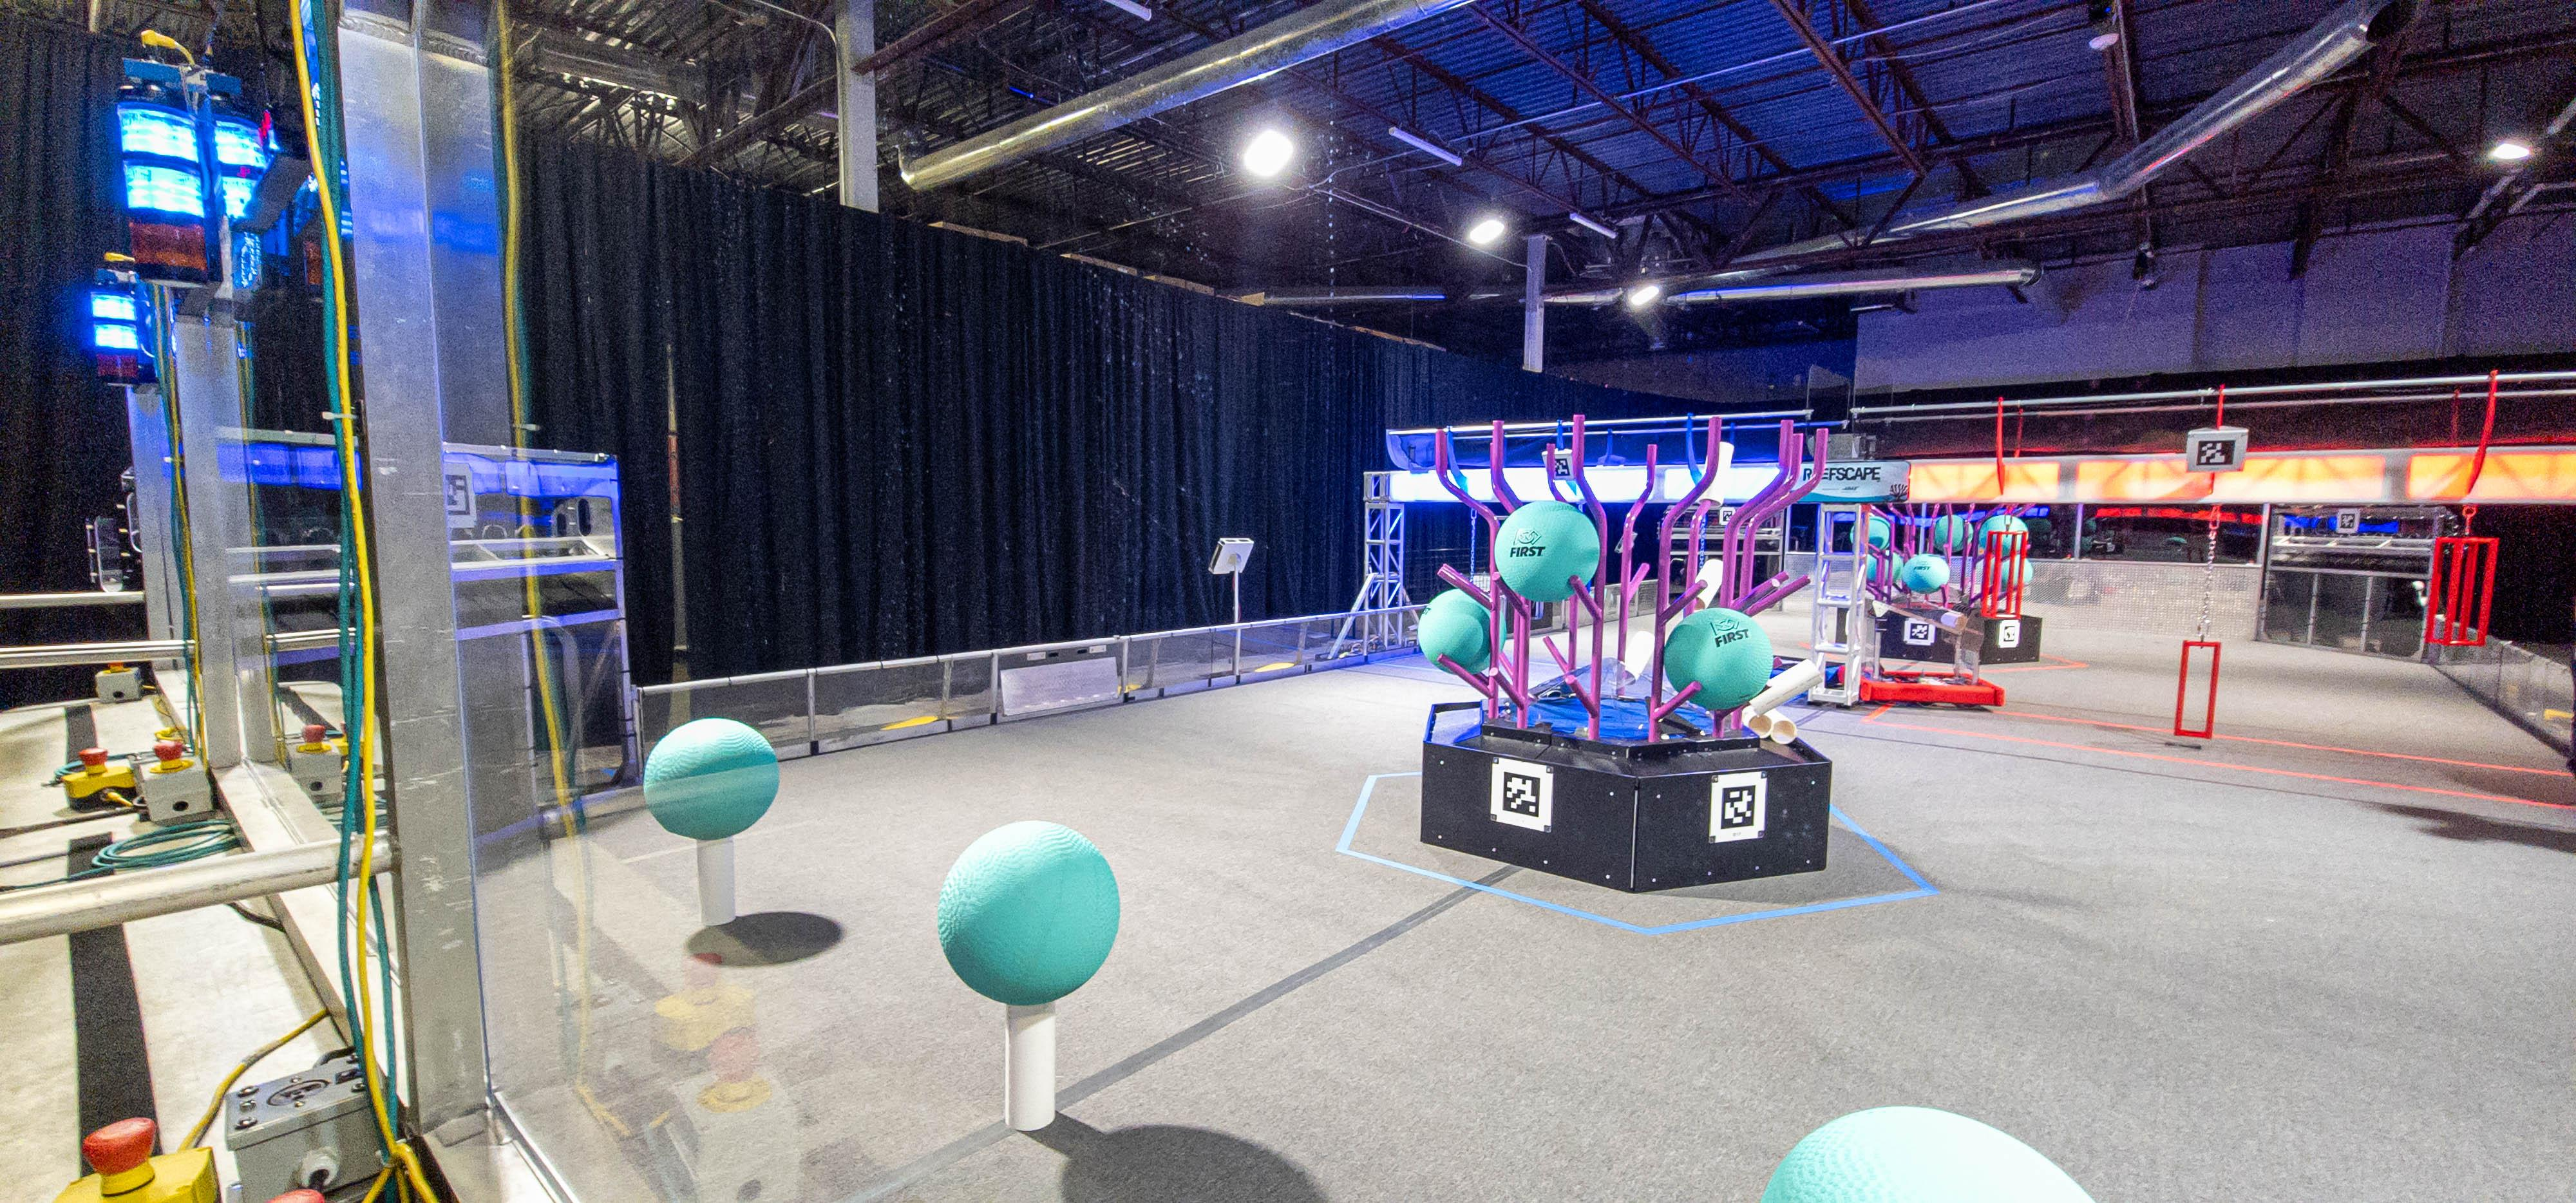ALGAE: (938, 820, 1120, 1004), (1759, 1106, 2095, 1203), (647, 718, 779, 840), (1664, 606, 1774, 710), (1495, 500, 1600, 603), (1419, 588, 1506, 672), (1980, 514, 2029, 557), (1904, 554, 1950, 595), (1988, 554, 2034, 590), (1930, 514, 1973, 552), (1850, 516, 1891, 552), (1866, 551, 1902, 585)
CORAL: (1005, 999, 1058, 1132), (1750, 659, 1822, 717), (1613, 631, 1654, 685), (1694, 559, 1723, 613)
